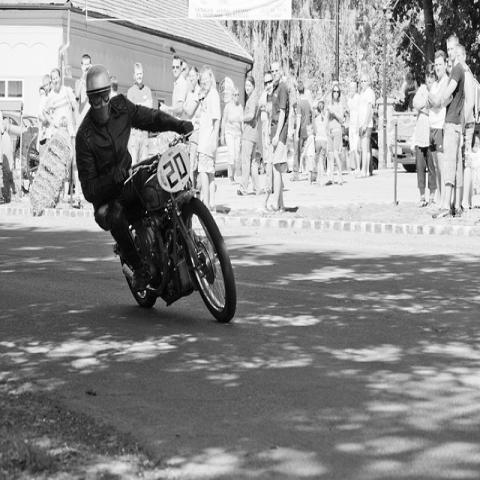car: (3, 114, 42, 159), (389, 120, 418, 174), (372, 117, 378, 170)
motorcycle: (110, 127, 238, 322)
